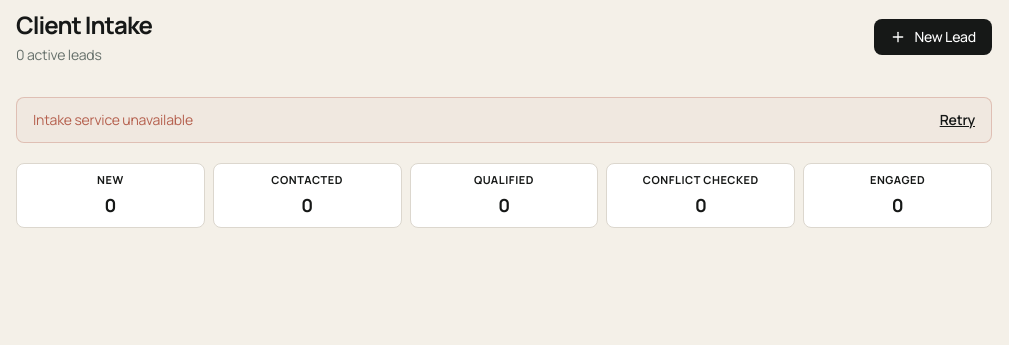
Scenario: IntakePage matter conversion › shows a retry action when loading leads fails
Expected: the message shows "Intake service unavailable", [33,110,193,129]
What coordinates should you click on to do the following:
click the button "Retry"
I would click on:
 (957, 120)
Its box is [940,110,975,130].
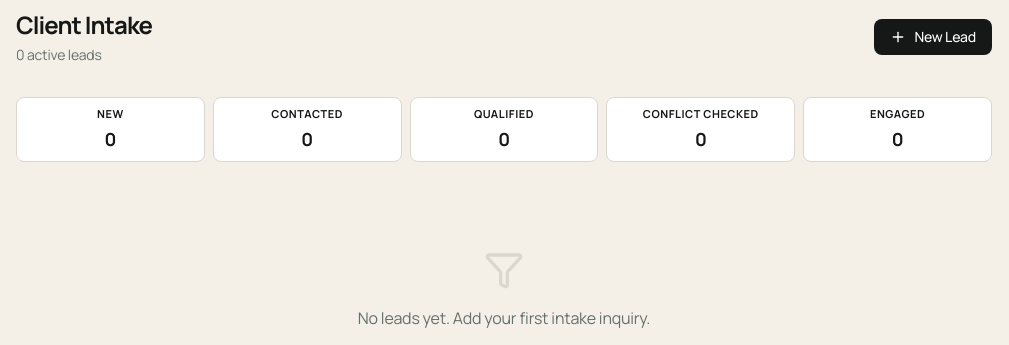
Result: the text "No leads yet. Add your first intake inquiry." is shown at [358,306,650,328]
